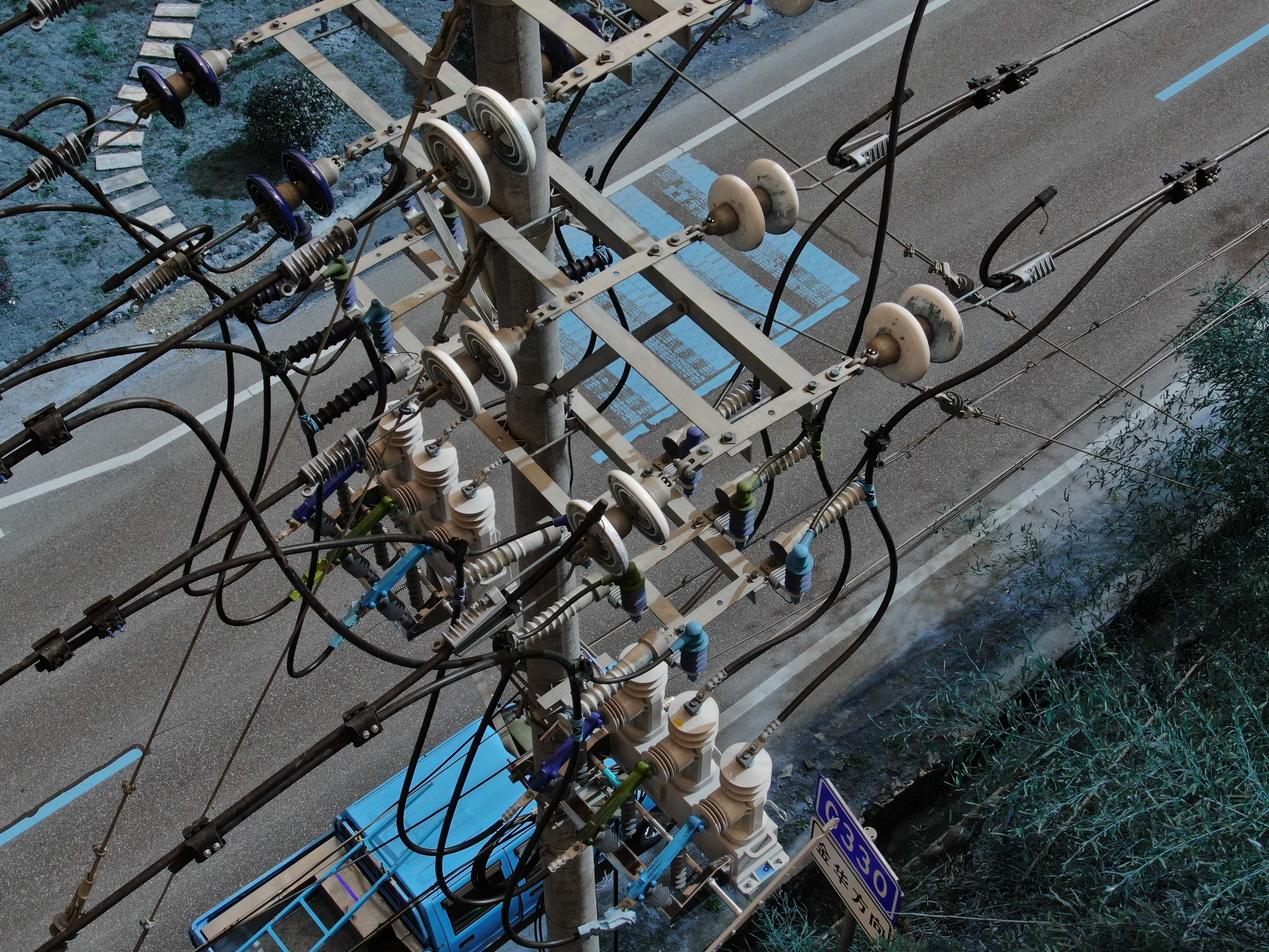severe_soiling_no_discharge_whole: (416, 77, 551, 214), (563, 463, 680, 581), (554, 626, 668, 734), (856, 280, 968, 389), (701, 151, 804, 253), (765, 477, 870, 565), (712, 433, 819, 511), (759, 1, 812, 23)
